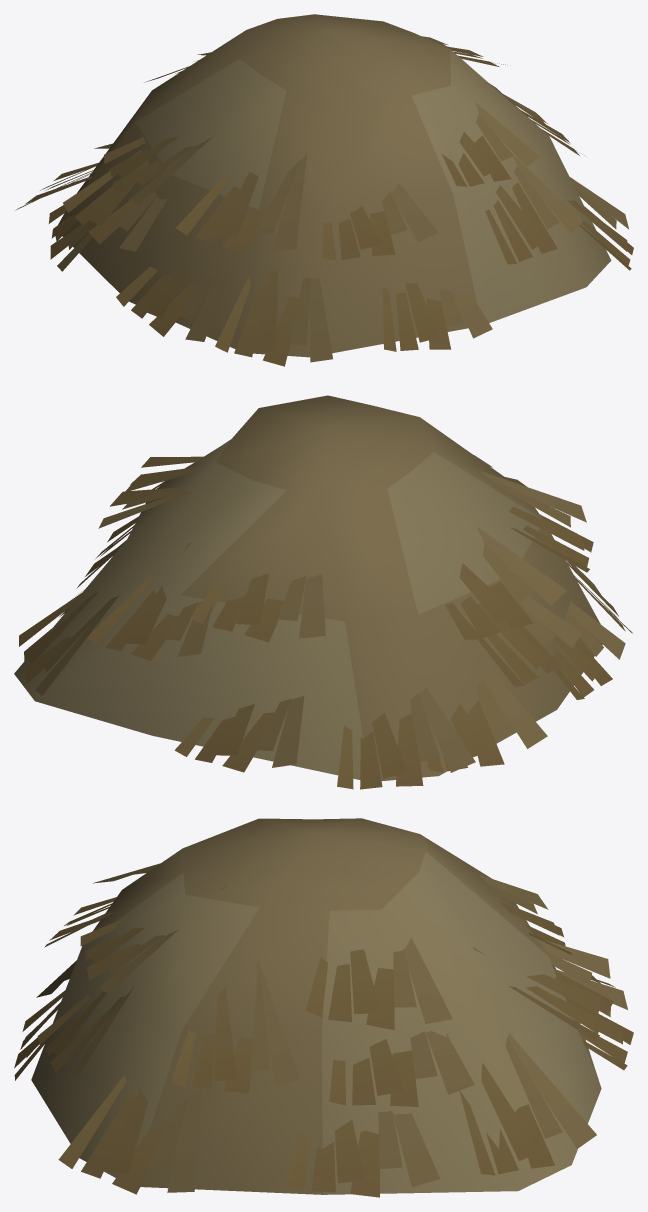
Rendered from SM_HayPile_01.fbx.
3 renders of one model, top to bottom at view 1: azimuth 30°, elevation 25°; view 2: azimuth 150°, elevation 25°; view 3: azimuth 270°, elevation 25°, orthographic. The views are drawn at different scales.
Parts seen in each view (by area): view 1: SM_HayPile_01; view 2: SM_HayPile_01; view 3: SM_HayPile_01.
Part boxes in pixels (x1,y1,x2,y2): SM_HayPile_01: (15, 14, 633, 366); SM_HayPile_01: (14, 395, 632, 789); SM_HayPile_01: (14, 818, 633, 1197).
Bounding box in the file's own units: 5.81 × 2.52 × 5.79.
